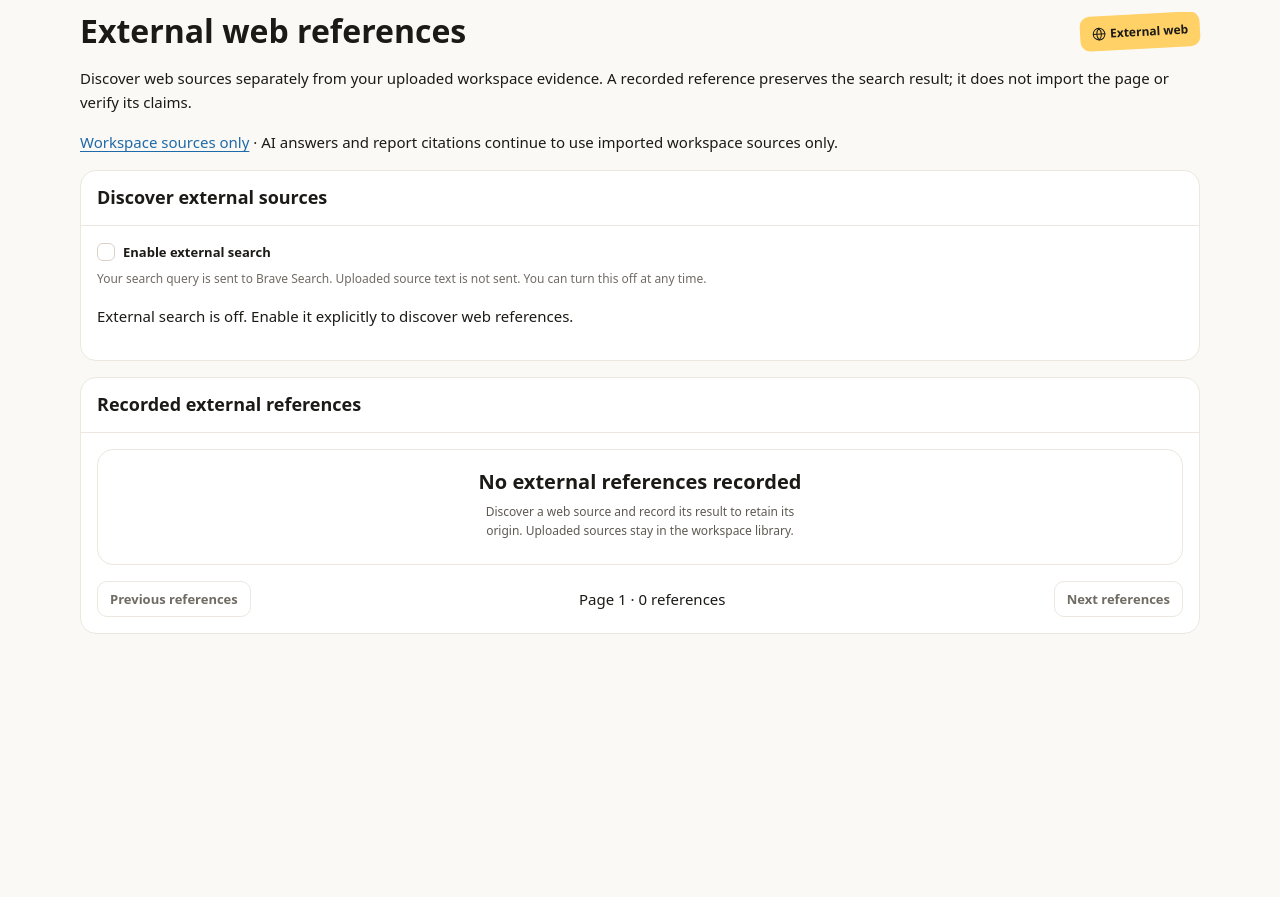
Test: keeps discovery and recording errors visible and handles empty external results
Click the checkbox.
click(106, 252)  # box 97,243 -> 115,261
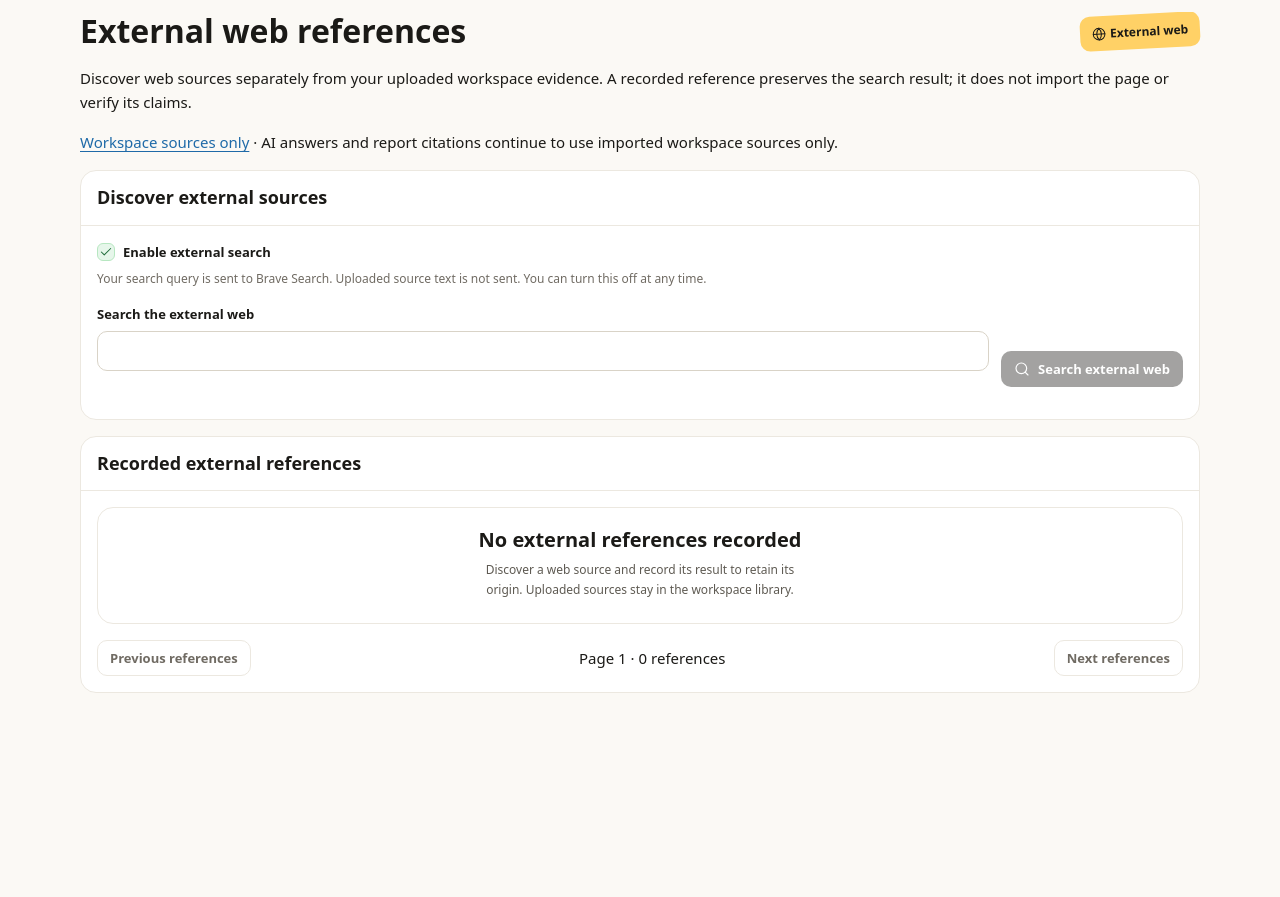
Type "solar" into the field labelled "Search the external web".
click(543, 351); type("solar")  # box 97,331 -> 989,371
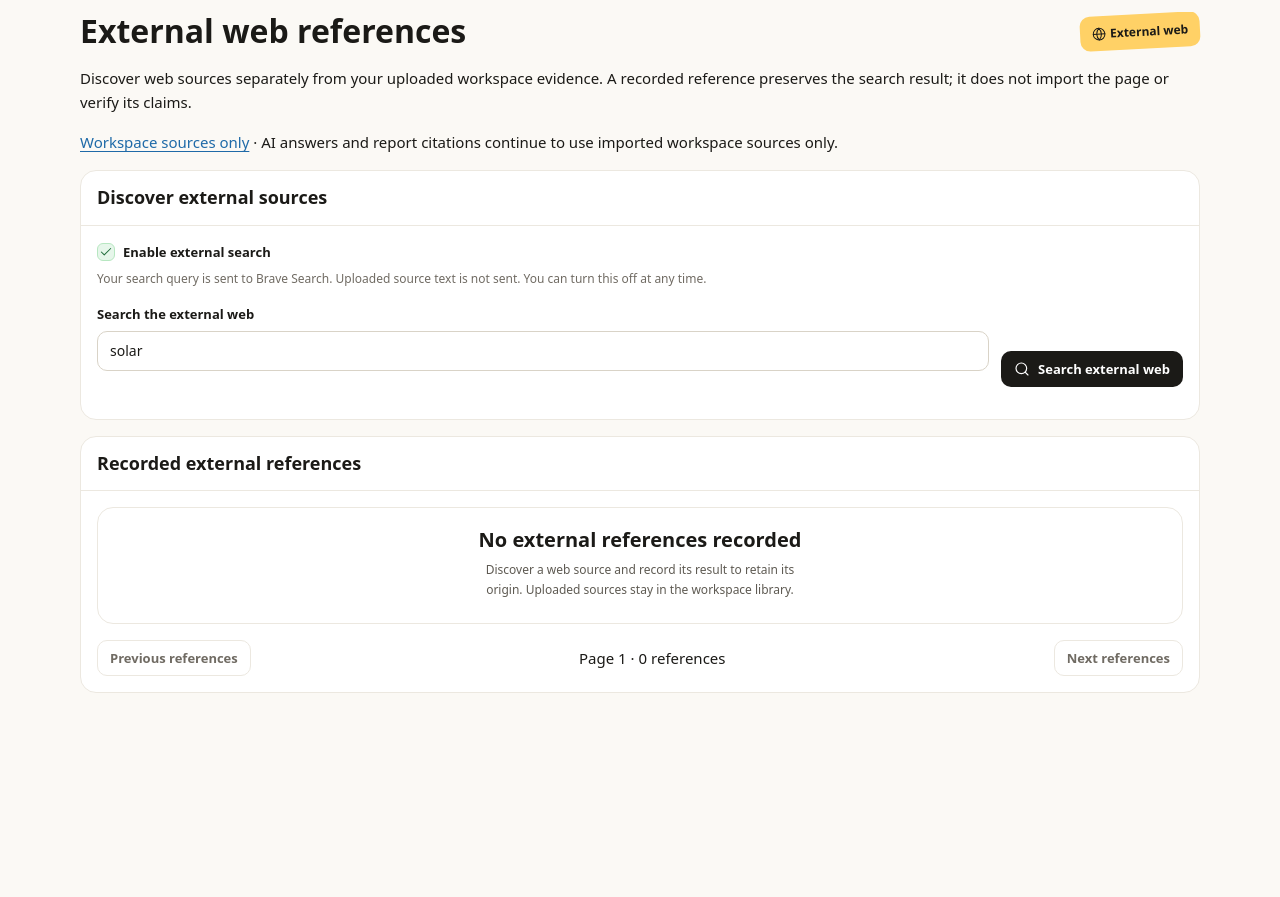
Click the button "Search external web".
click(1092, 369)  # box 1001,351 -> 1183,387
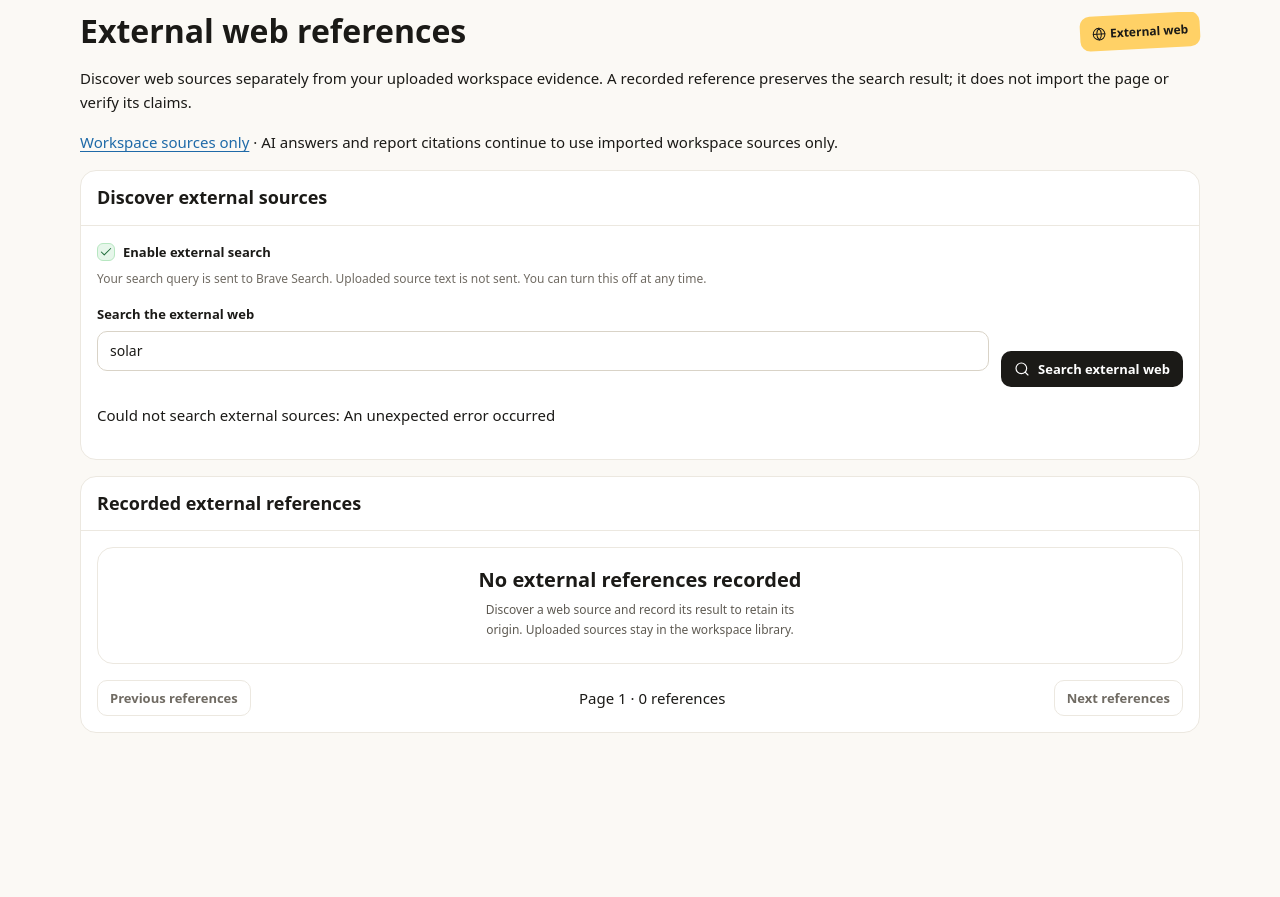
Now the message shows "Could not search external sources:", box 97,405 -> 340,425
Click the button "Search external web".
click(1092, 369)  # box 1001,351 -> 1183,387
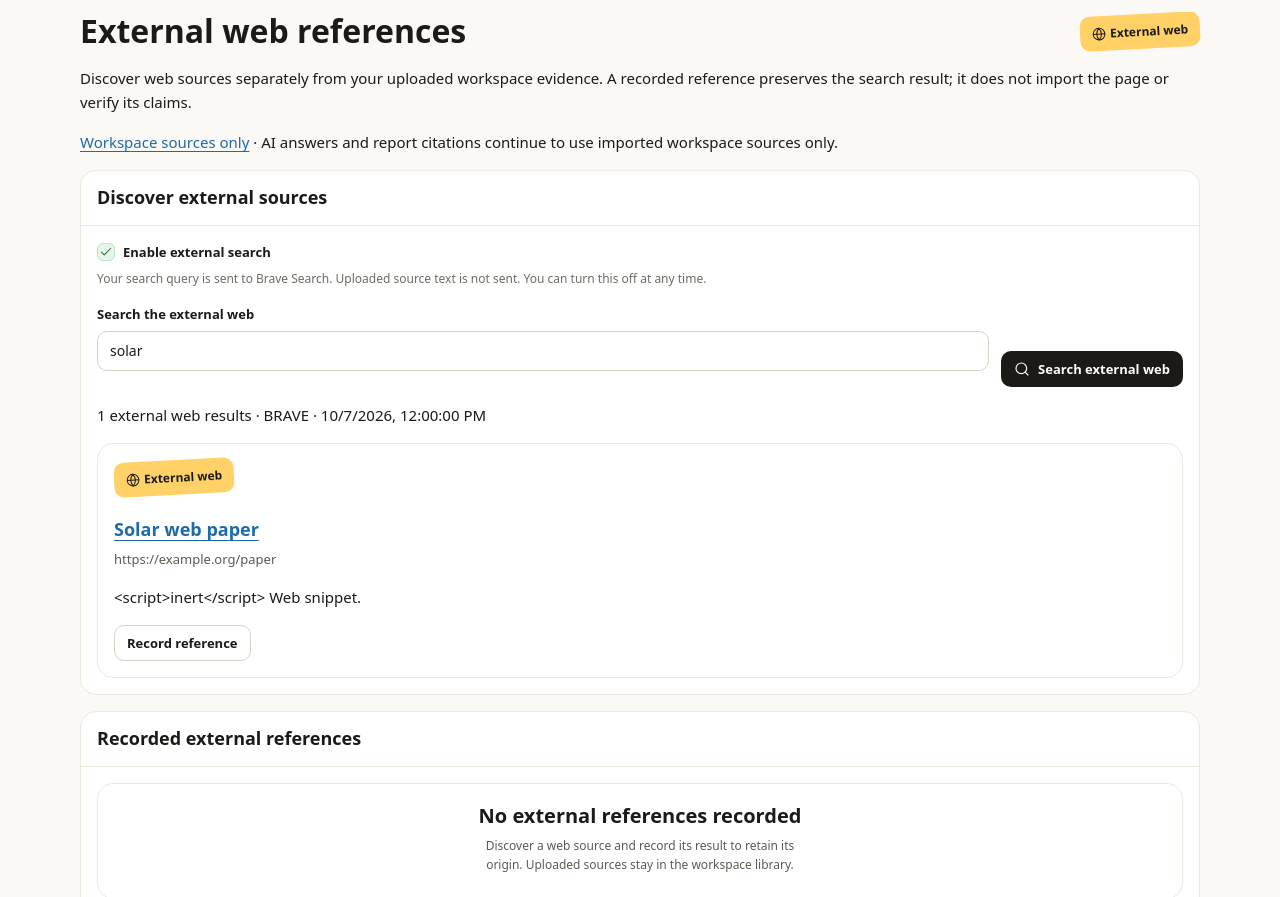
Now the button "Record reference" is shown
Click the button "Record reference".
click(182, 643)  # box 114,625 -> 250,661
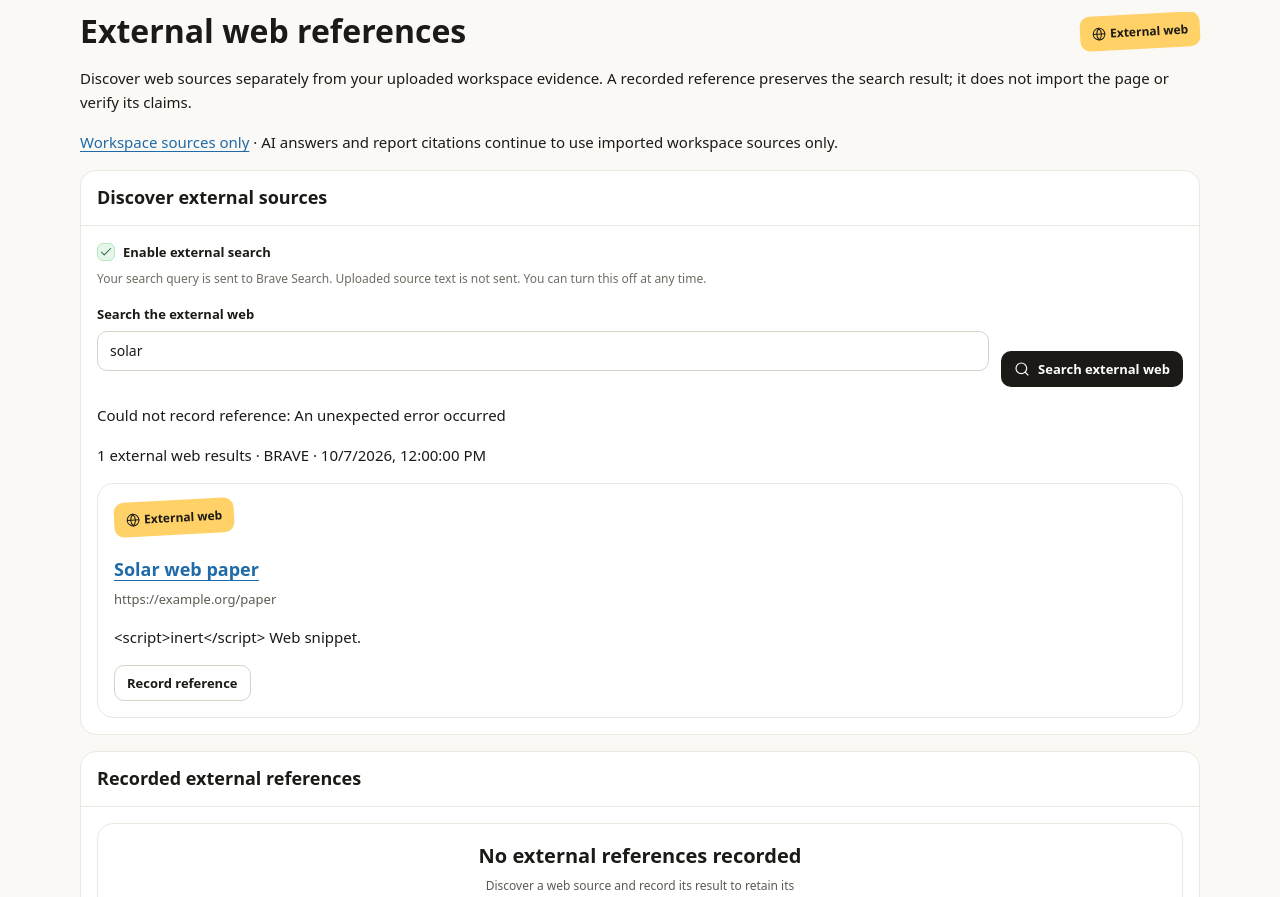
Now the message "Could not record reference: An unexpected error occurred" is shown, box 97,405 -> 506,425
Click the button "Search external web".
click(1092, 369)  # box 1001,351 -> 1183,387
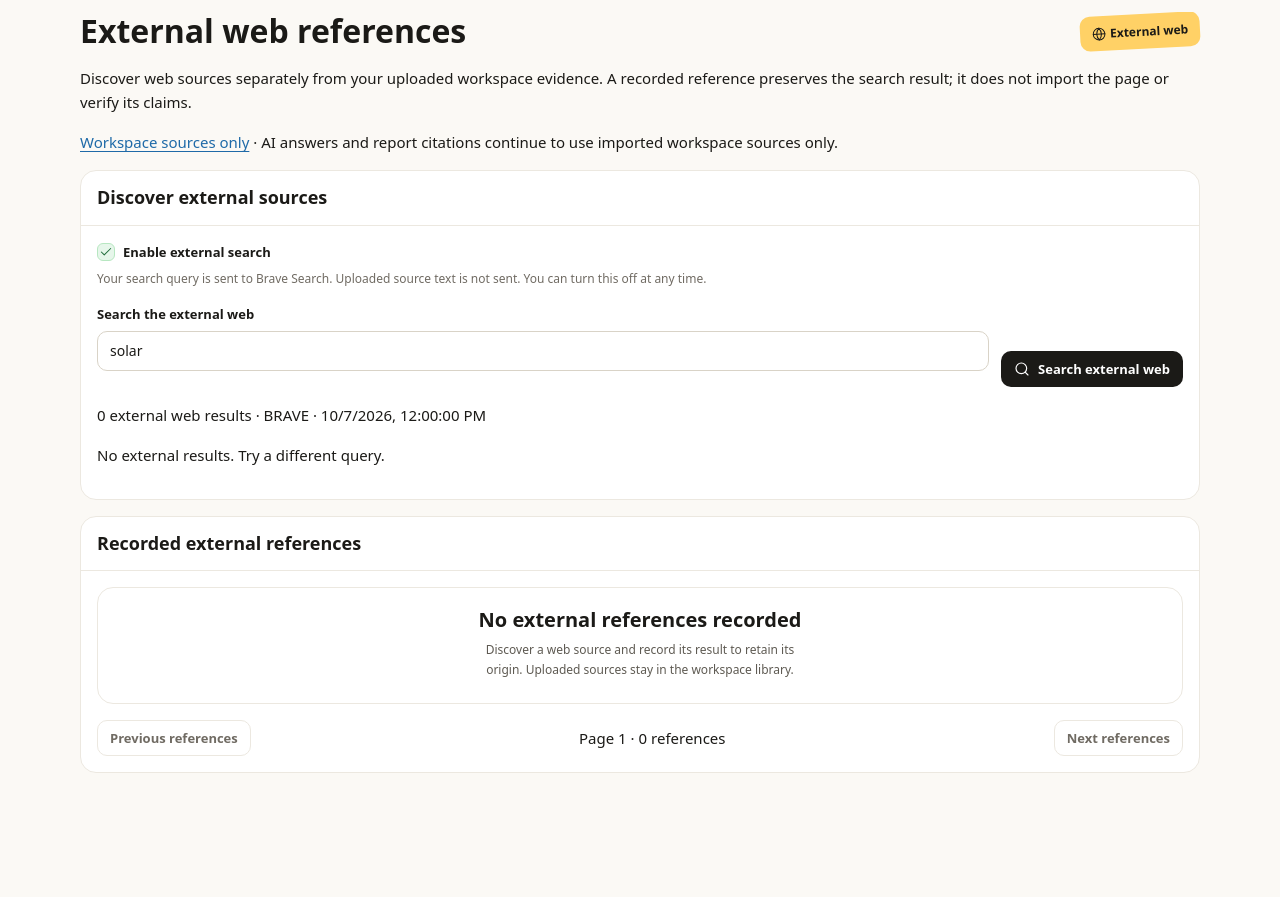
Now the text "No external results. Try a different query." is shown, box 97,445 -> 385,465
Now the text "Could not record reference" is gone
